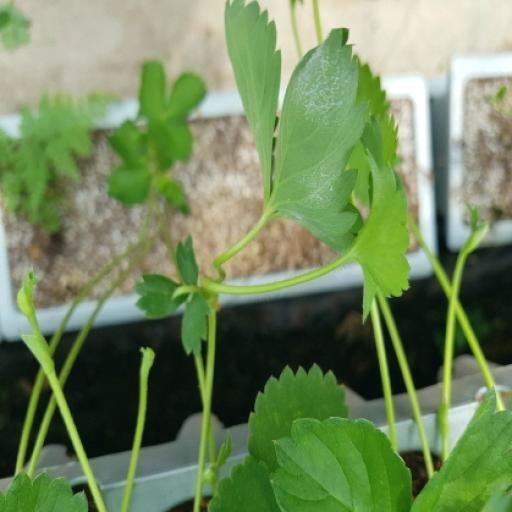Powdery Mildew Leaf: (261, 256, 371, 485)
